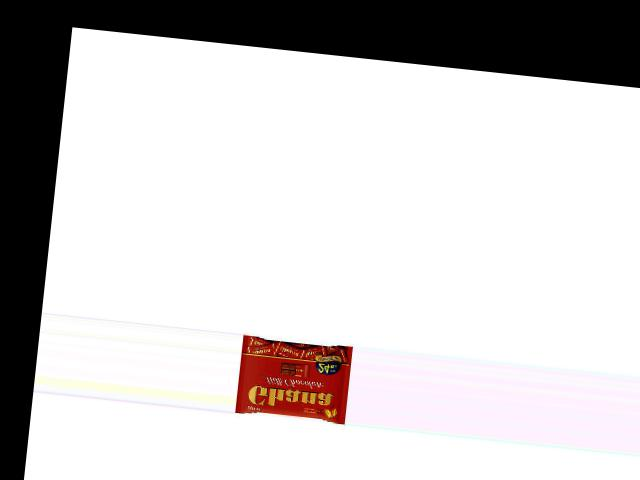chocolate: (237, 332, 354, 422)
